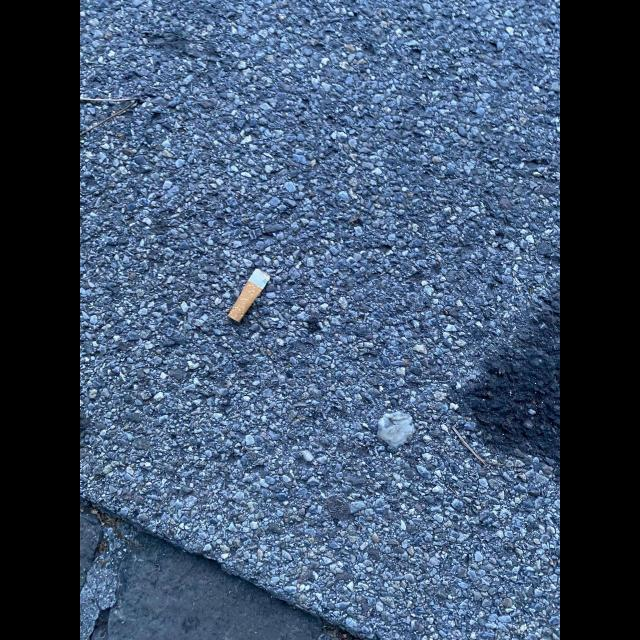cigarette: (227, 267, 271, 323)
